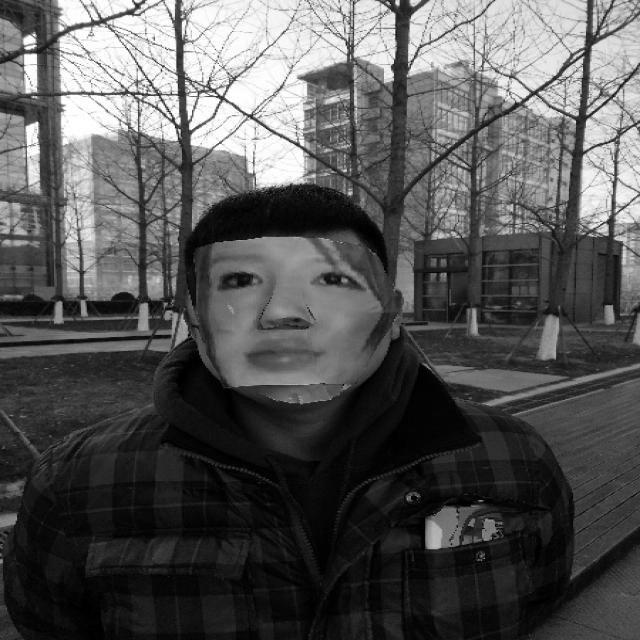fake: (176, 180, 410, 407)
